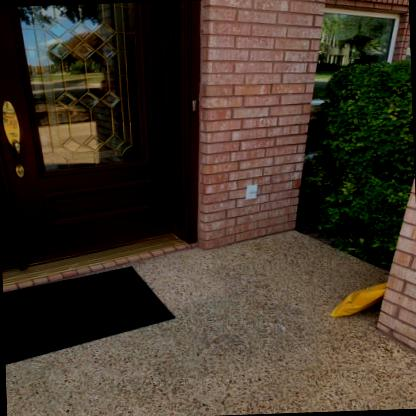envelope: (329, 281, 390, 320)
